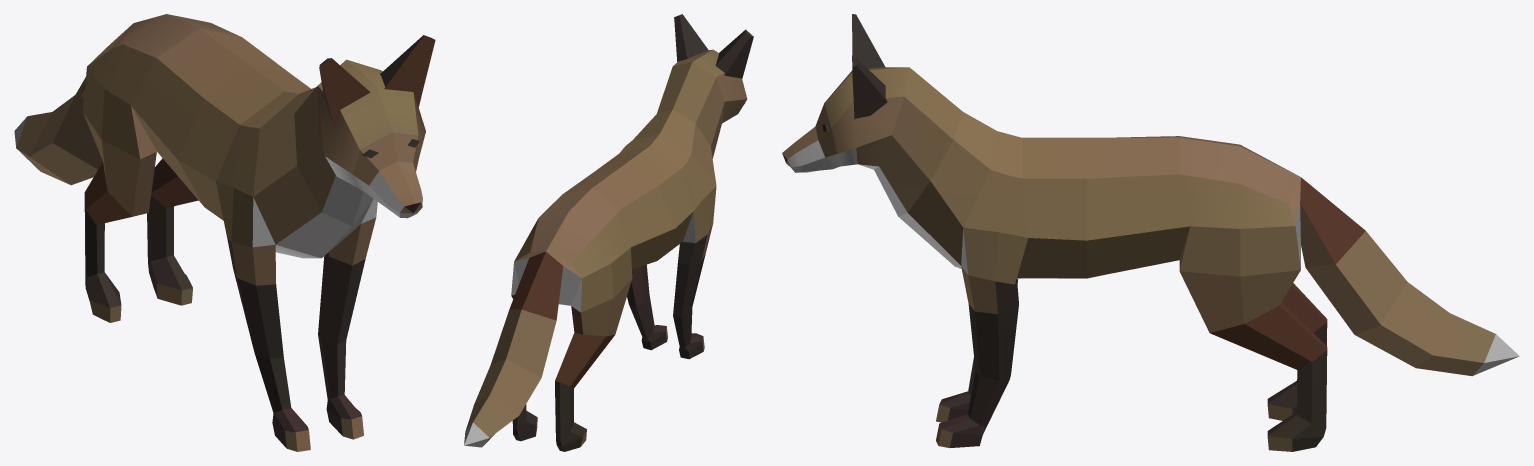
File: cuUeGYY_jQ_.glb
The picture shows the model from 3 angles, left to right: view 1: azimuth 30°, elevation 25°; view 2: azimuth 150°, elevation 25°; view 3: azimuth 270°, elevation 25°; orthographic projection. The views are drawn at different scales.
Visible parts, largest first — view 1: Geo_Fox; view 2: Geo_Fox; view 3: Geo_Fox.
Boxes of the visible parts, x1=… form: Geo_Fox: x1=14, y1=14, x2=435, y2=451; Geo_Fox: x1=464, y1=14, x2=753, y2=451; Geo_Fox: x1=782, y1=14, x2=1519, y2=451.
Bounding box in the file's own units: 0.3493 × 1 × 1.68.
Materials: 1 (1 with a texture image).
